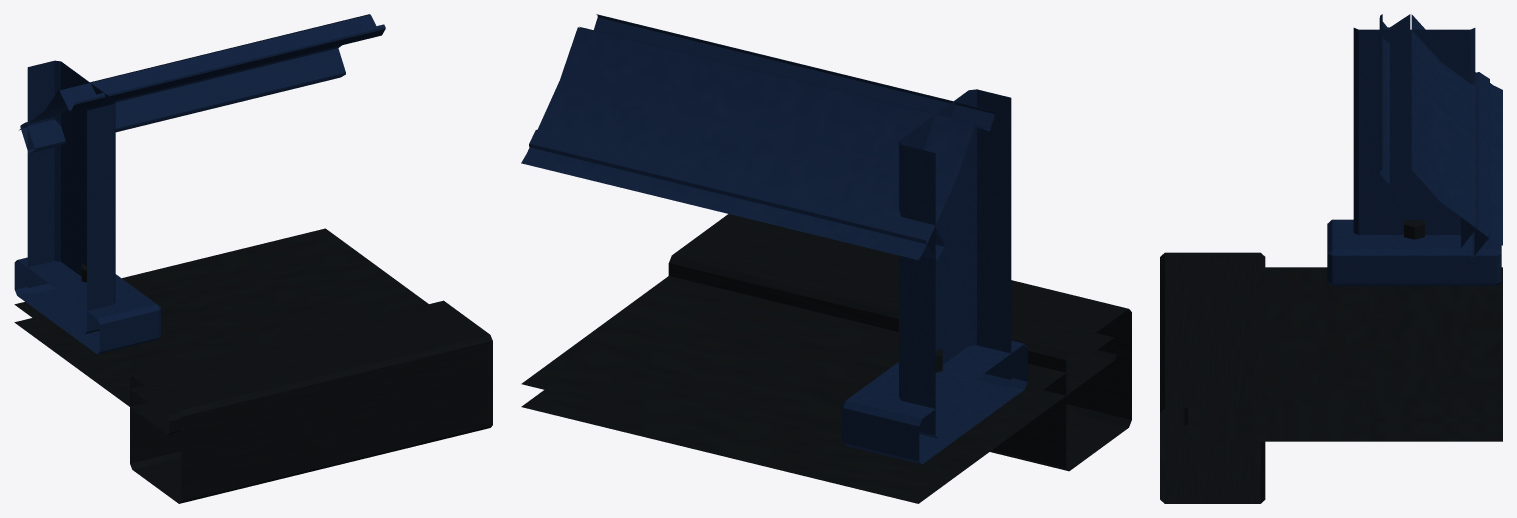
File: cell_21.obj
3 renders of one model, left to right at view 1: azimuth 30°, elevation 25°; view 2: azimuth 150°, elevation 25°; view 3: azimuth 270°, elevation 25°, orthographic. The views are drawn at different scales.
Parts seen in each view (by area): view 1: cell_21; view 2: cell_21; view 3: cell_21.
Part boxes in pixels (x1=…): cell_21: x1=14, y1=14, x2=492, y2=503; cell_21: x1=521, y1=14, x2=1131, y2=503; cell_21: x1=1160, y1=14, x2=1502, y2=503.
Bounding box in the file's own units: 1 × 1 × 0.93.
